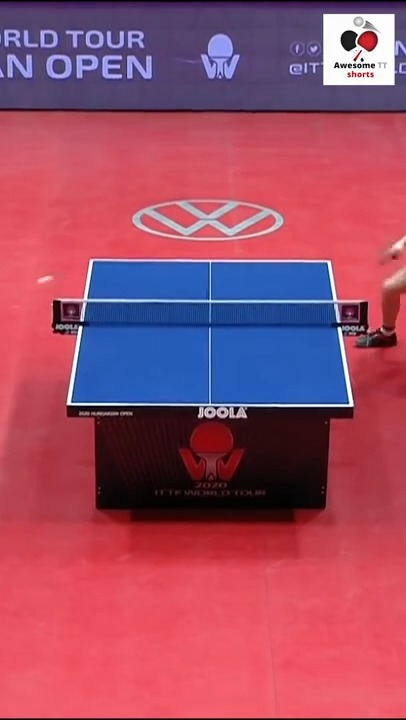Ball: (38, 271, 53, 287)
